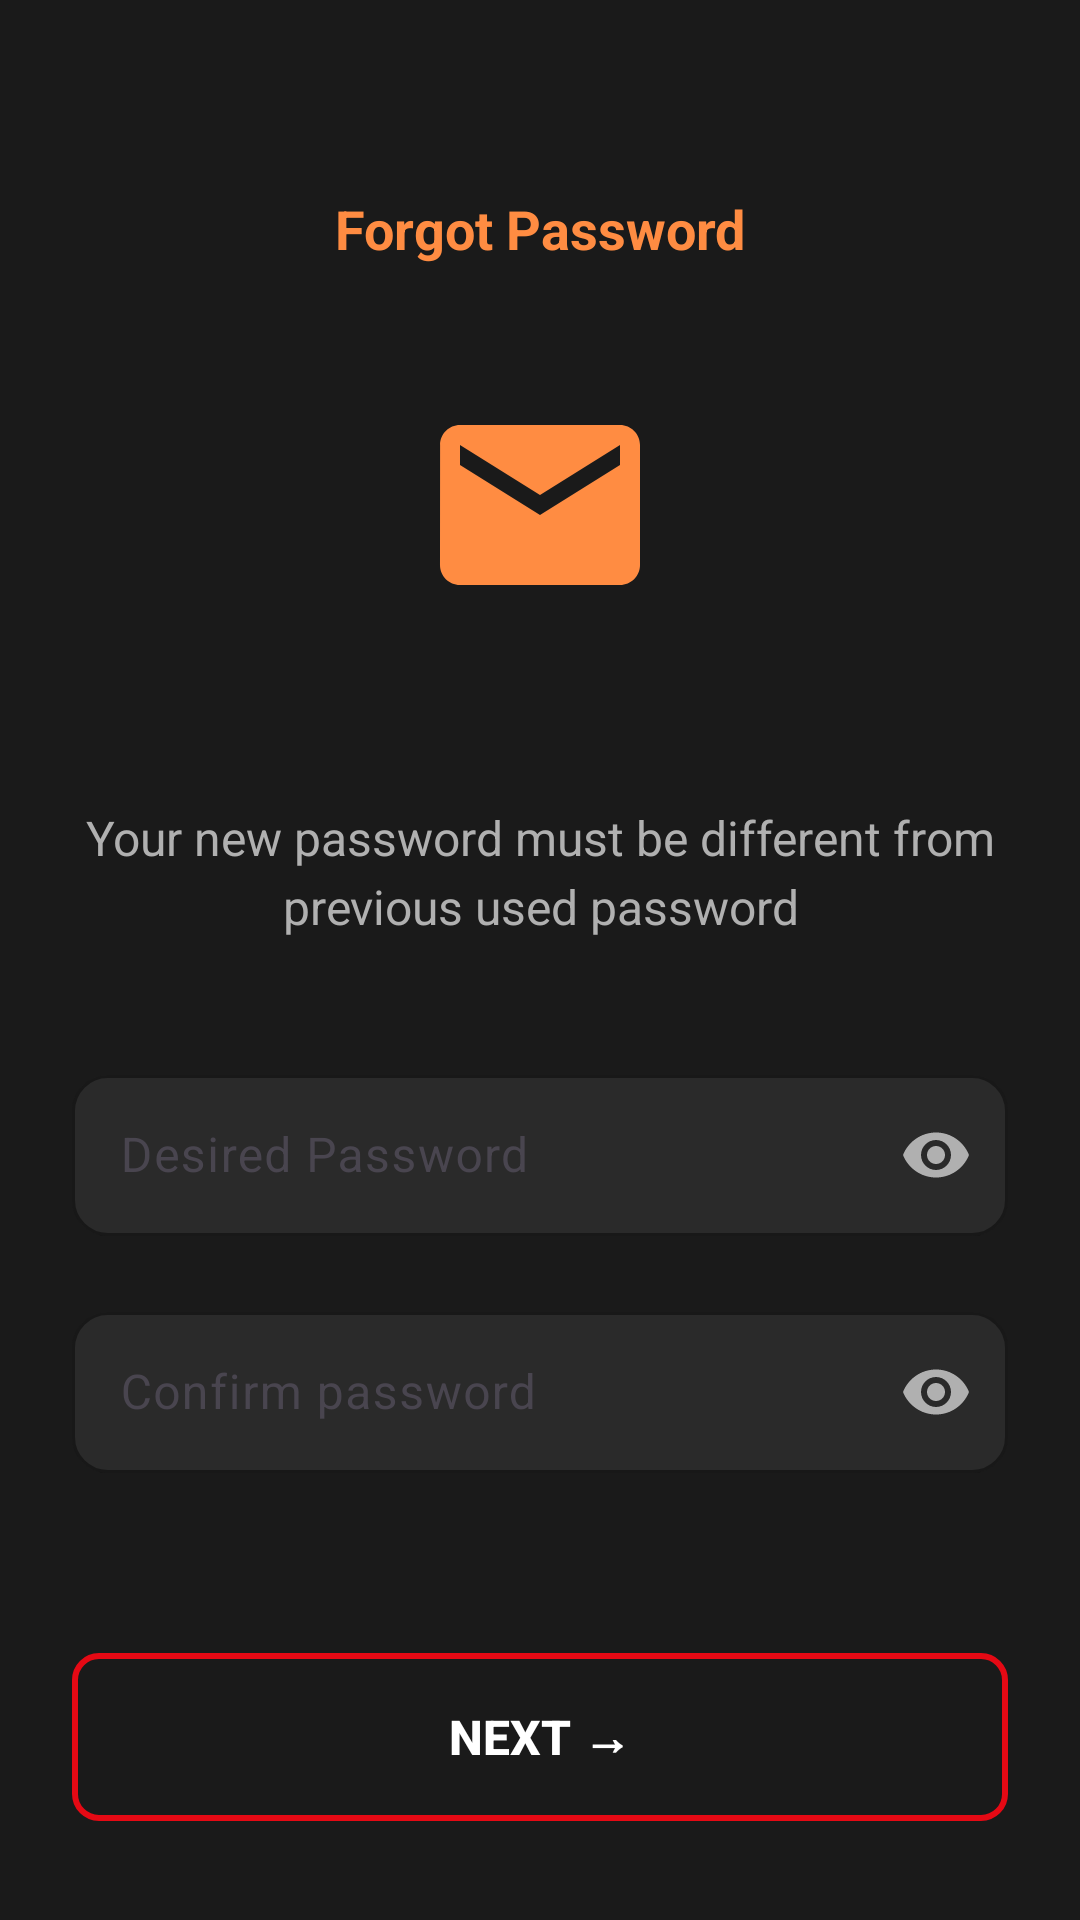

Named icons in this screenshot (1080w x 1920h) and their centers, (x,y):
mail: (540,505)
